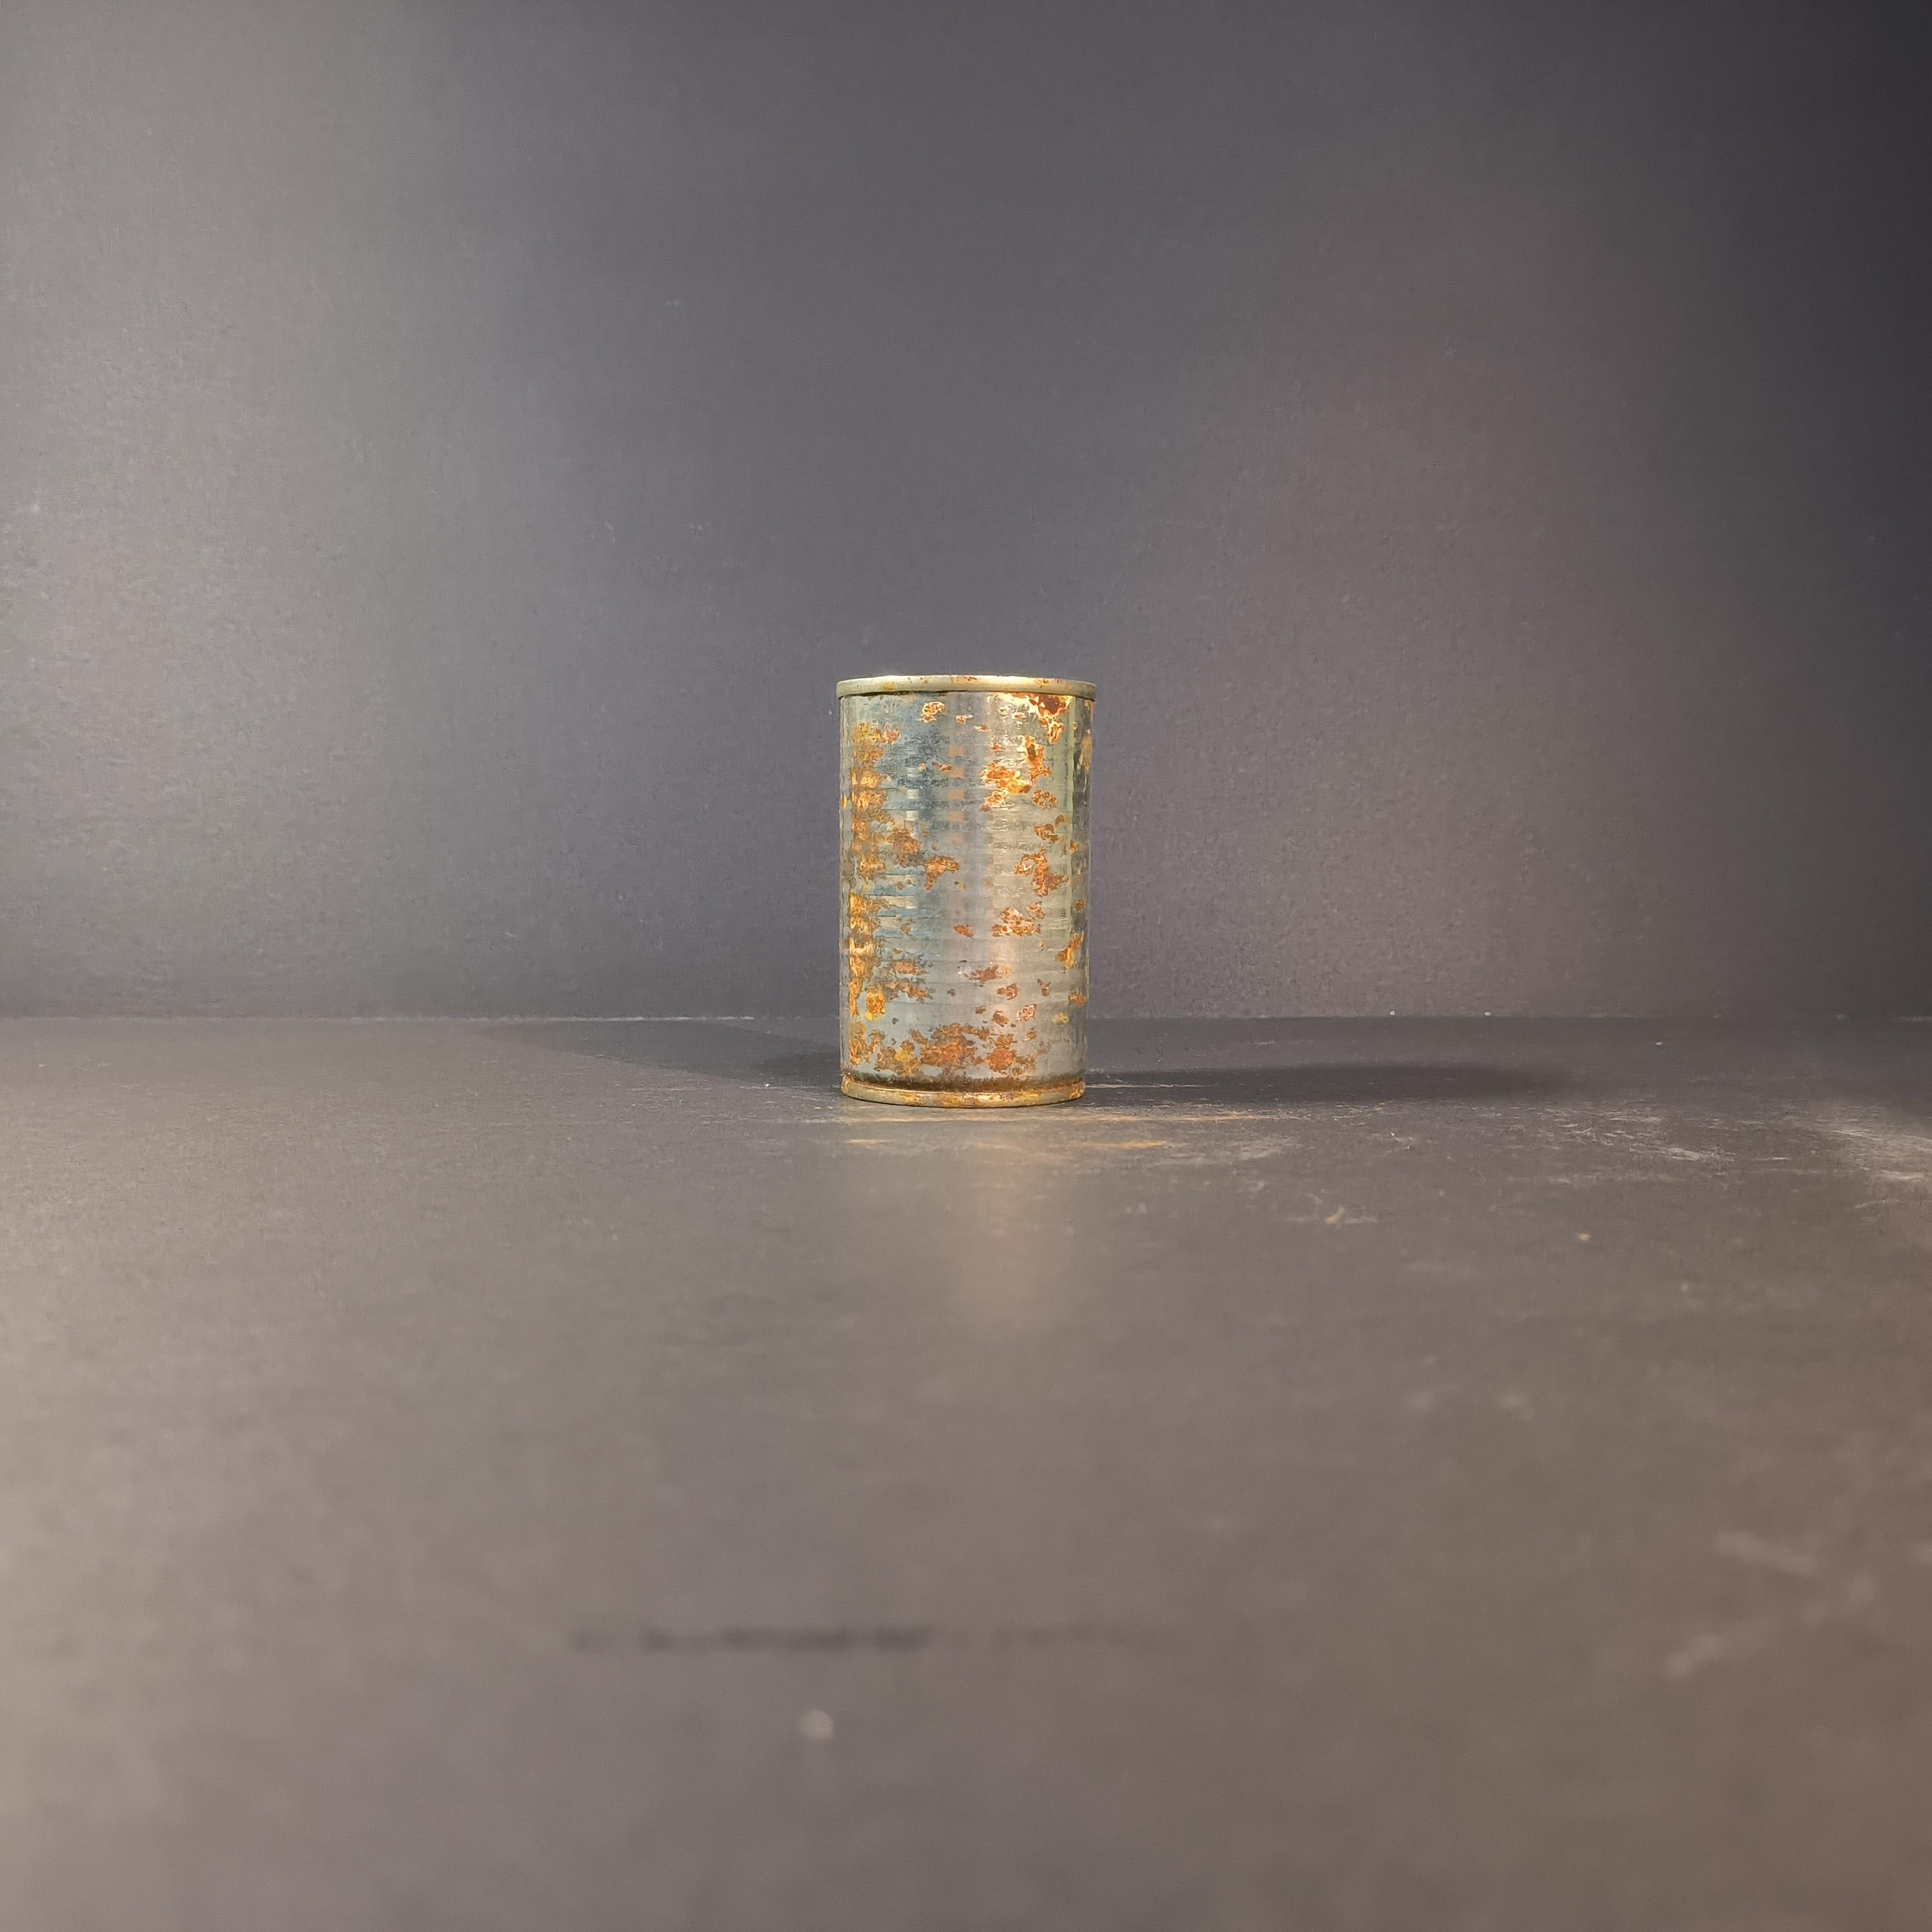Rusted: (826, 662, 1109, 1113)
